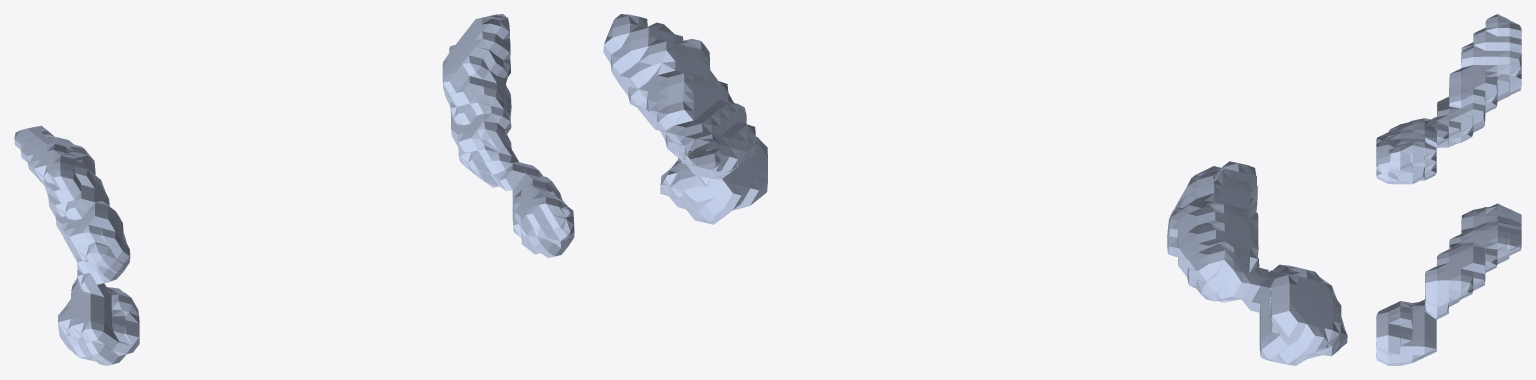
File: VFB_00102121.glb
3 renders of one model, left to right at view 1: azimuth 30°, elevation 25°; view 2: azimuth 150°, elevation 25°; view 3: azimuth 270°, elevation 25°, orthographic. The views are drawn at different scales.
Parts seen in each view (by area): view 1: VFB_00102121; view 2: VFB_00102121; view 3: VFB_00102121.
Part boxes in pixels (box(x1,y1,x2,y2)): VFB_00102121: box(14, 14, 574, 365); VFB_00102121: box(603, 14, 1347, 365); VFB_00102121: box(1376, 14, 1521, 365).
Size of the model in its own units: 0.1615 by 0.0582 by 0.0471.
